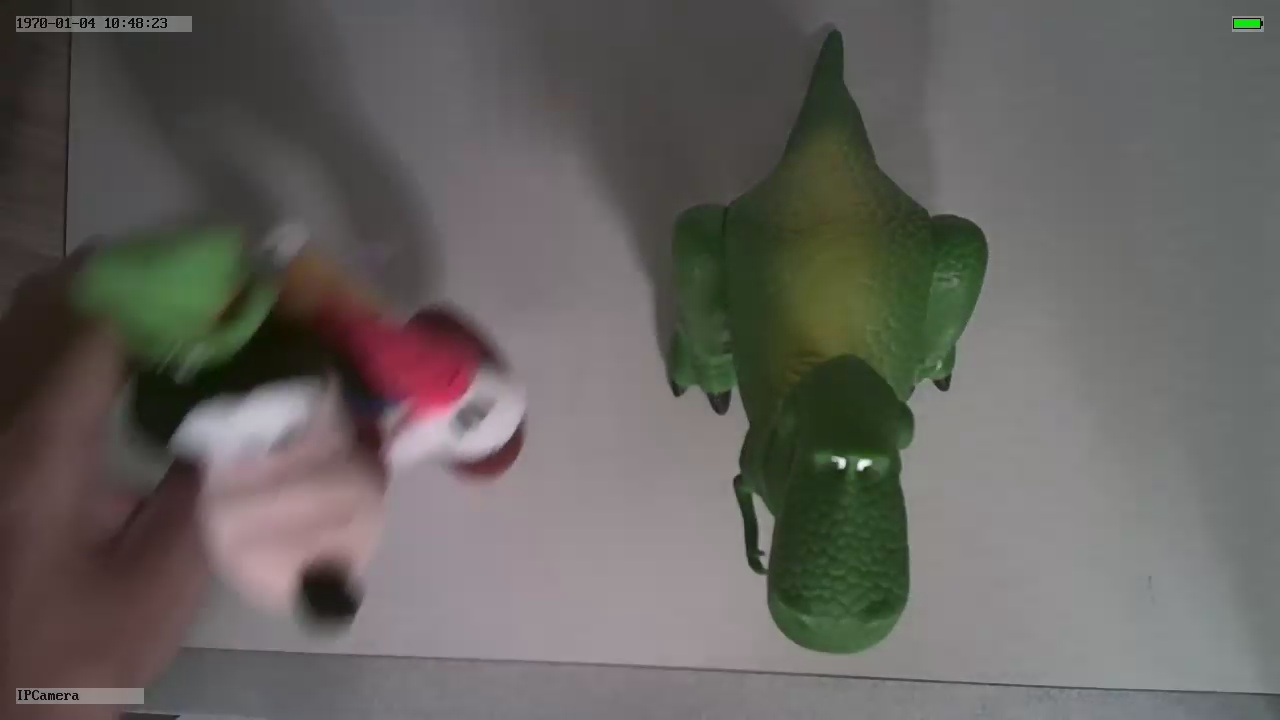rex: (672, 109, 994, 658)
